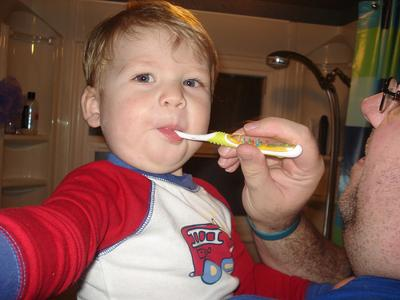person: (2, 2, 360, 300)
